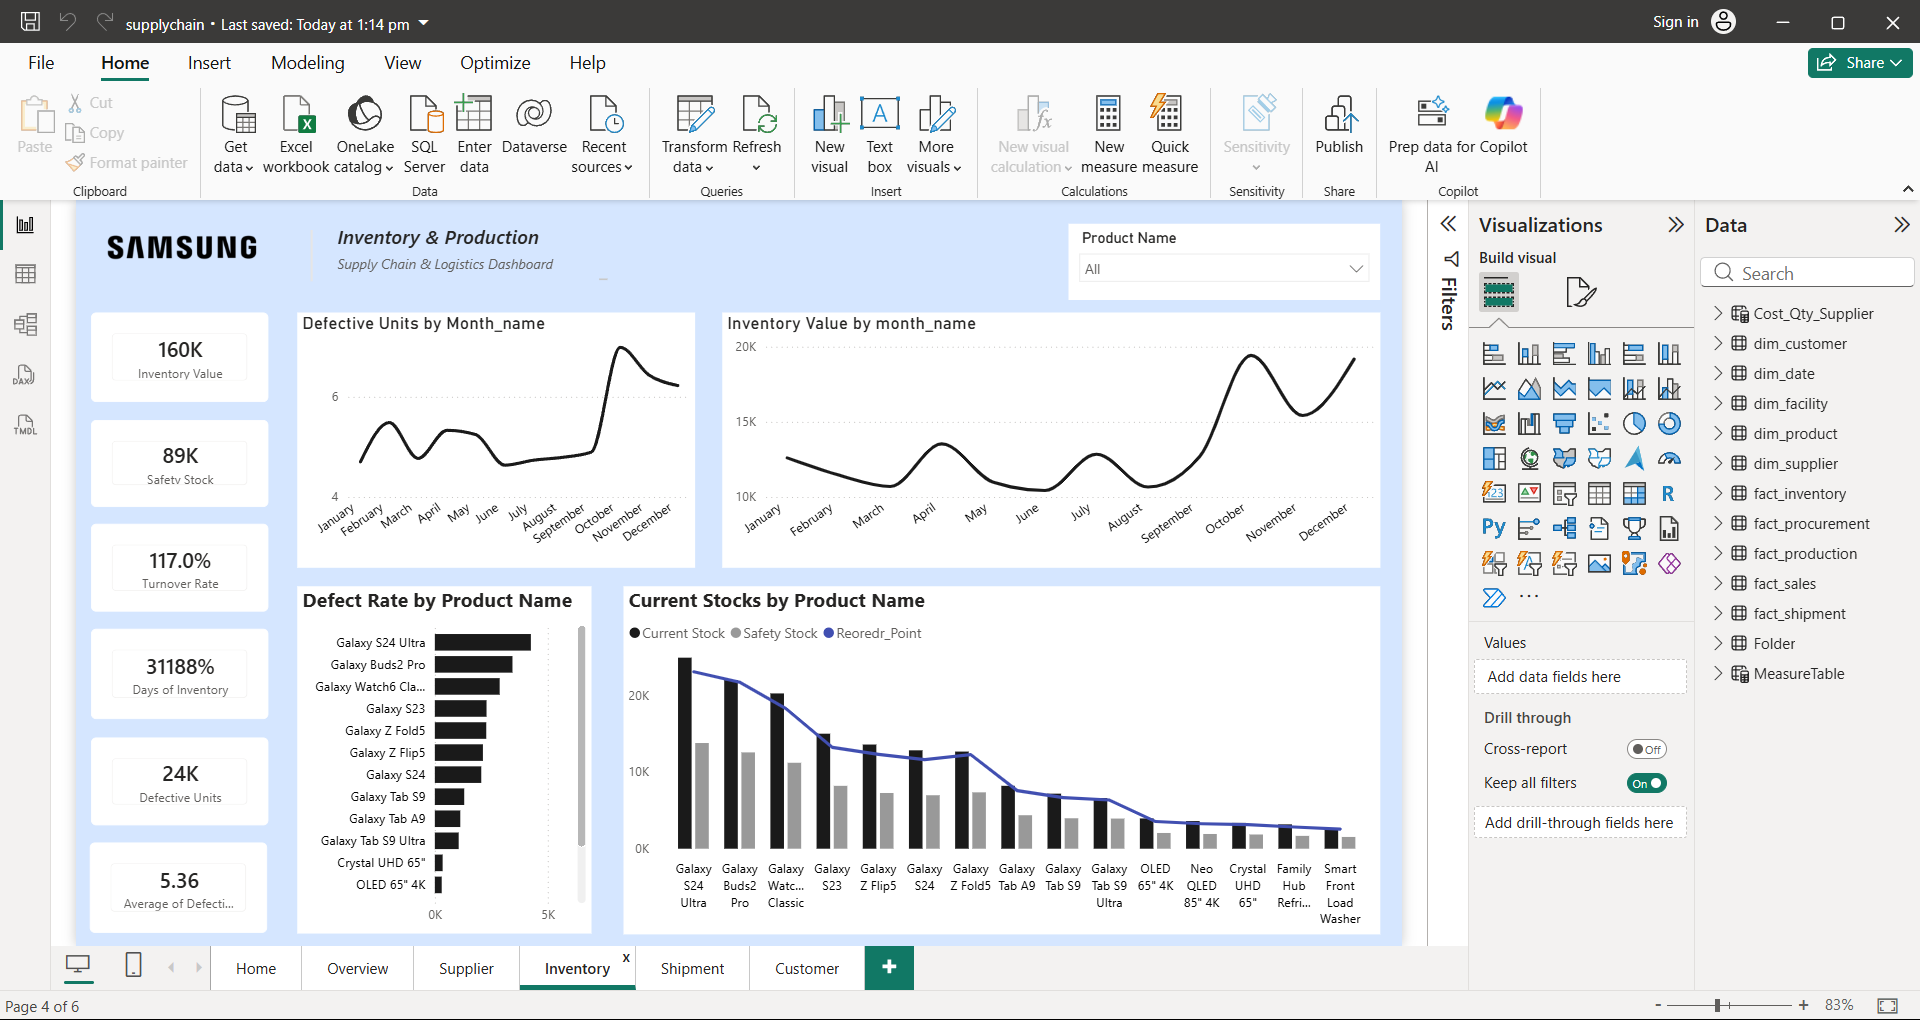

What the dashboard file says about the page in this screenshot:
{"tool":"powerbi","page":{"name":"Inventory","canvas":[1280,720],"ordinal":3},"visuals":[{"type":"textbox","title":"Inventory & Production","box":[247.3,22.9,270.2,59.1],"z":0},{"type":"shape","box":[181,29,92.9,49.5],"z":1000},{"type":"image","box":[19.3,8.4,159.3,73.6],"z":2000},{"type":"cardVisual","fields":{"Data":["MeasureTable.Safety_Stock"]},"box":[15,211.8,171.2,83.8],"z":3000},{"type":"cardVisual","fields":{"Data":["MeasureTable.Turnover_Rate"]},"box":[14.8,312.2,171.2,85],"z":4000},{"type":"cardVisual","fields":{"Data":["MeasureTable.Days_of_Inventory"]},"box":[14.5,414,171.2,87.5],"z":5000},{"type":"cardVisual","fields":{"Data":["Sum(fact_production.defective_units)"]},"box":[14,518.2,171.2,85],"z":6000},{"type":"cardVisual","fields":{"Data":["Avg(fact_production.defective_units)"]},"box":[13.8,620,171.2,87.5],"z":7000},{"type":"cardVisual","fields":{"Data":["MeasureTable.Inventory_Value"]},"box":[14.2,108.8,171.2,86.2],"z":8000},{"type":"barChart","title":"Defect Rate by Product Name","fields":{"Y":["MeasureTable.Defect_rate"],"Category":["dim_product.product_name"]},"box":[213.8,372.5,283.8,335],"z":9000},{"type":"lineClusteredColumnComboChart","title":"Current Stocks by Product Name","fields":{"Category":["dim_product.product_name"],"Y":["MeasureTable.Inventory_Value","MeasureTable.Safety_Stock"],"Y2":["MeasureTable.Reoredr_Point"]},"box":[528.8,372.5,730,336.2],"z":10000},{"type":"lineChart","title":"Defective Units by Month_name","fields":{"Y":["Avg(fact_production.defective_units)"],"Category":["dim_date.month_name"]},"box":[213.8,108.8,383.8,246.2],"z":11000},{"type":"lineChart","title":"Inventory Value by  month_name","fields":{"Y":["MeasureTable.Inventory_Value"],"Category":["dim_date.month_name"]},"box":[623.8,108.8,635,246.2],"z":12000},{"type":"pageNavigator","box":[593.6,37.4,664.7,35],"z":13001}]}

Visuals, with their boxes on the page's 1280x720 design canvas (x1, y1, x2, y2). These are canvas units, not pixel positions in the 1920x1020 screenshot, which may show the page scaled, cropped or inside an application window:
"Inventory & Production" textbox: Rect(247, 23, 518, 82)
shape: Rect(181, 29, 274, 78)
image: Rect(19, 8, 179, 82)
cardVisual - MeasureTable.Safety_Stock: Rect(15, 212, 186, 296)
cardVisual - MeasureTable.Turnover_Rate: Rect(15, 312, 186, 397)
cardVisual - MeasureTable.Days_of_Inventory: Rect(14, 414, 186, 502)
cardVisual - Sum(fact_production.defective_units): Rect(14, 518, 185, 603)
cardVisual - Avg(fact_production.defective_units): Rect(14, 620, 185, 708)
cardVisual - MeasureTable.Inventory_Value: Rect(14, 109, 185, 195)
"Defect Rate by Product Name" barChart: Rect(214, 372, 498, 708)
"Current Stocks by Product Name" lineClusteredColumnComboChart: Rect(529, 372, 1259, 709)
"Defective Units by Month_name" lineChart: Rect(214, 109, 598, 355)
"Inventory Value by  month_name" lineChart: Rect(624, 109, 1259, 355)
pageNavigator: Rect(594, 37, 1258, 72)
